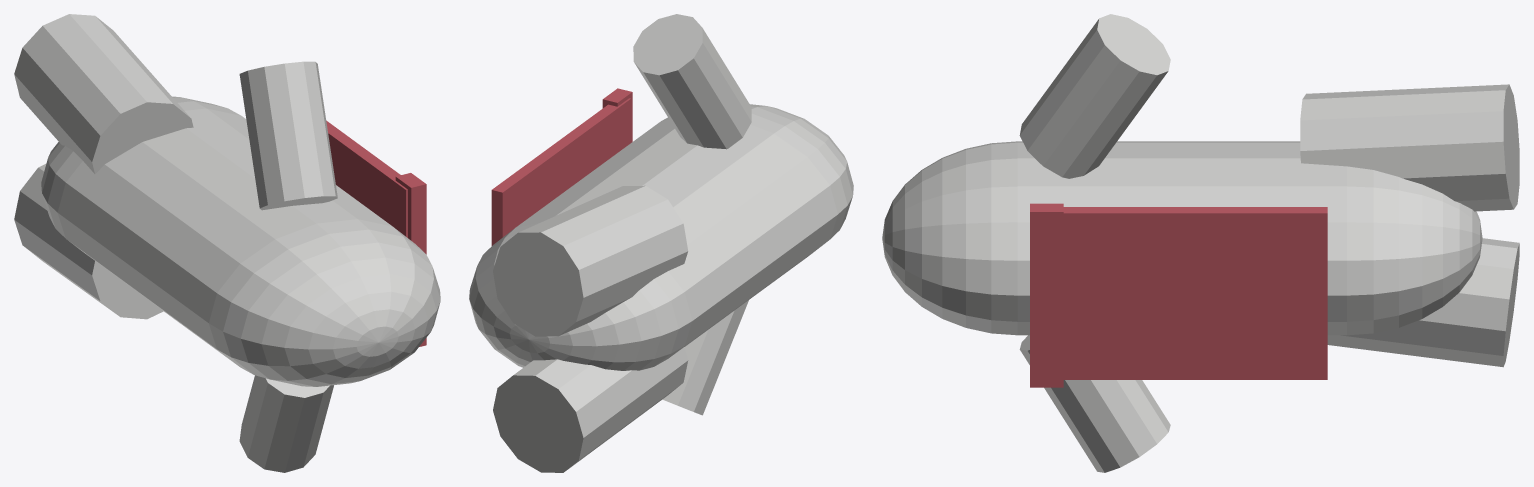
The picture shows the model from 3 angles, left to right: view 1: azimuth 30°, elevation 25°; view 2: azimuth 150°, elevation 25°; view 3: azimuth 270°, elevation 25°; orthographic projection. The views are drawn at different scales.
Parts seen in each view (by area): view 1: geometry_0; view 2: geometry_0; view 3: geometry_0.
Part boxes in pixels (left/top/right/bottom): geometry_0: left=14, top=14, right=440, bottom=472; geometry_0: left=469, top=14, right=853, bottom=472; geometry_0: left=882, top=14, right=1519, bottom=472.
Size of the model in its own units: 0.29 by 0.508 by 0.6584.
